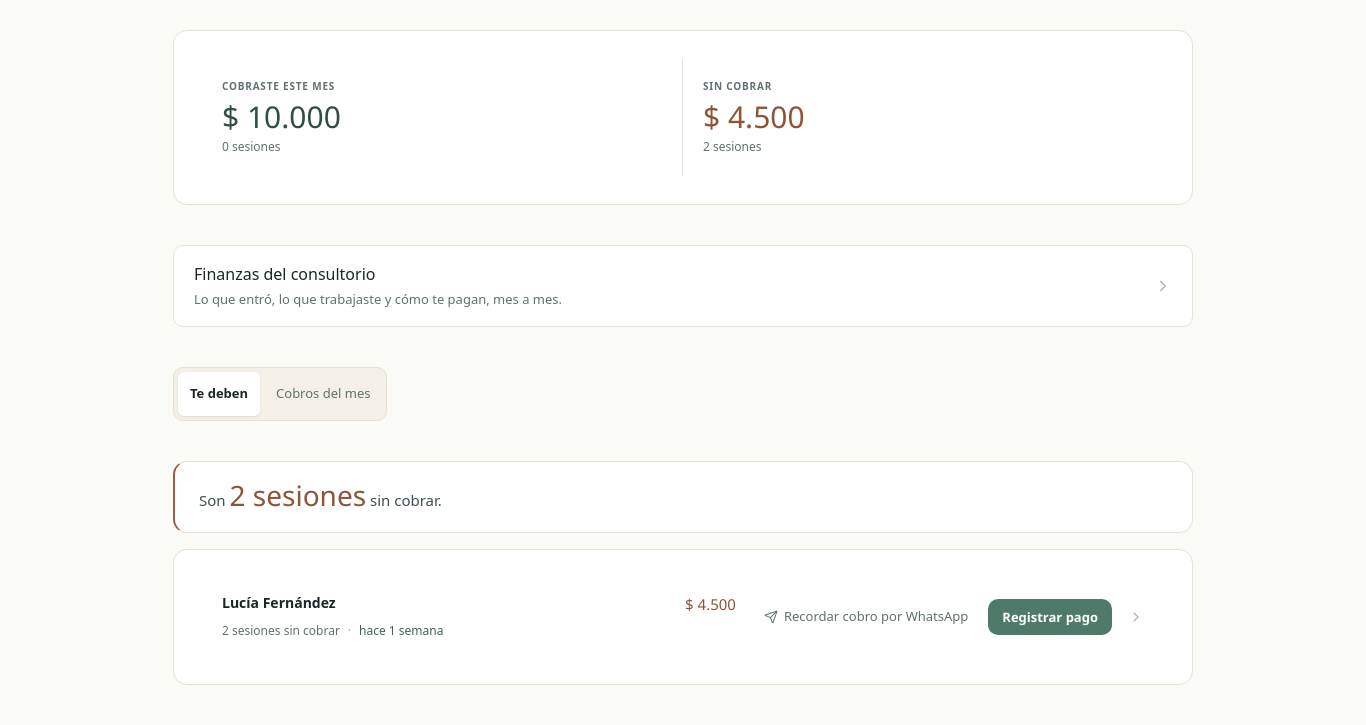
Test: Te deben: recordar el cobro por WhatsApp › el botón dice WhatsApp y tocarlo no abre nada: primero muestra el mensaje y el número
(page scrolled)
Step 1. Click the button "Recordar cobro por WhatsApp" → [866, 617], box [752,599,980,635]
(page scrolled)
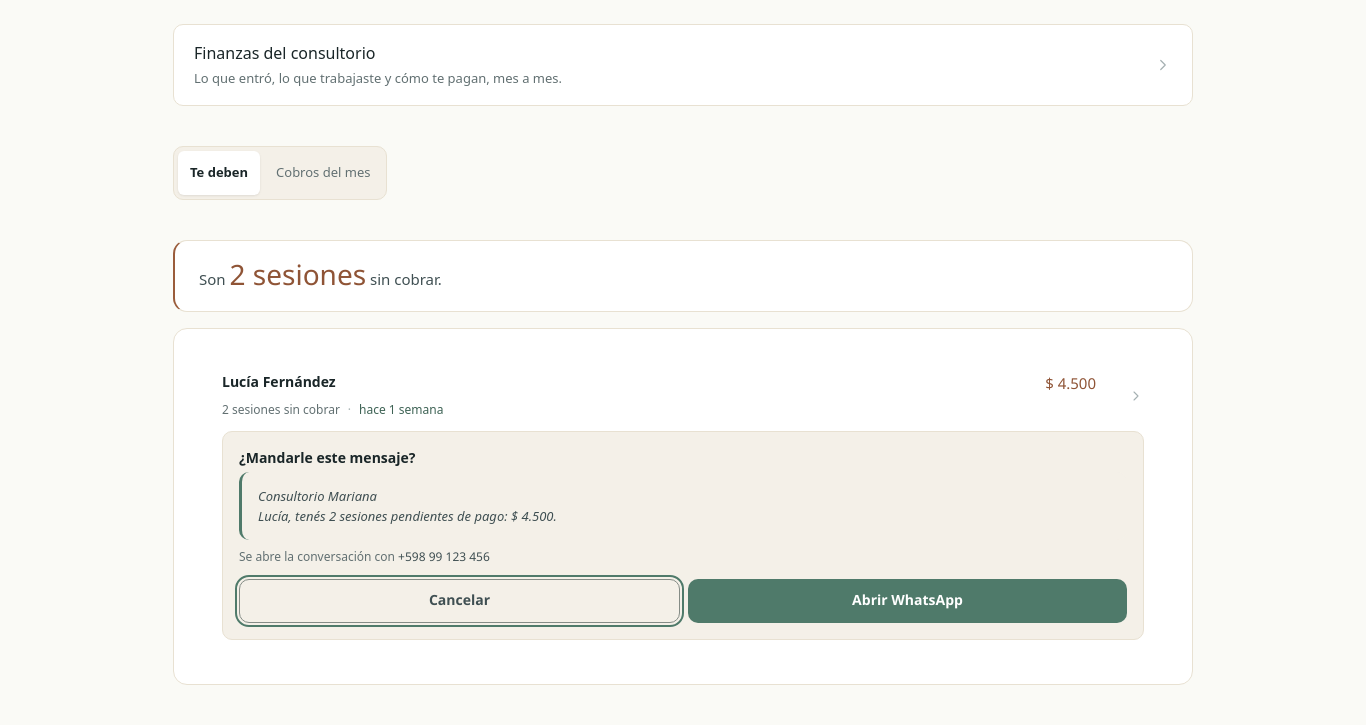
Check: the text "¿Mandarle este mensaje?" is shown, box [239,448,416,467]
Check: the text "+598 99 123 456" is shown, box [398,548,490,565]
// Cancelar tampoco abre ni anota, y la fila vuelve a como estaba.
Step 2. Click the button "Cancelar" → [460, 601], box [239,579,680,623]
(page scrolled)
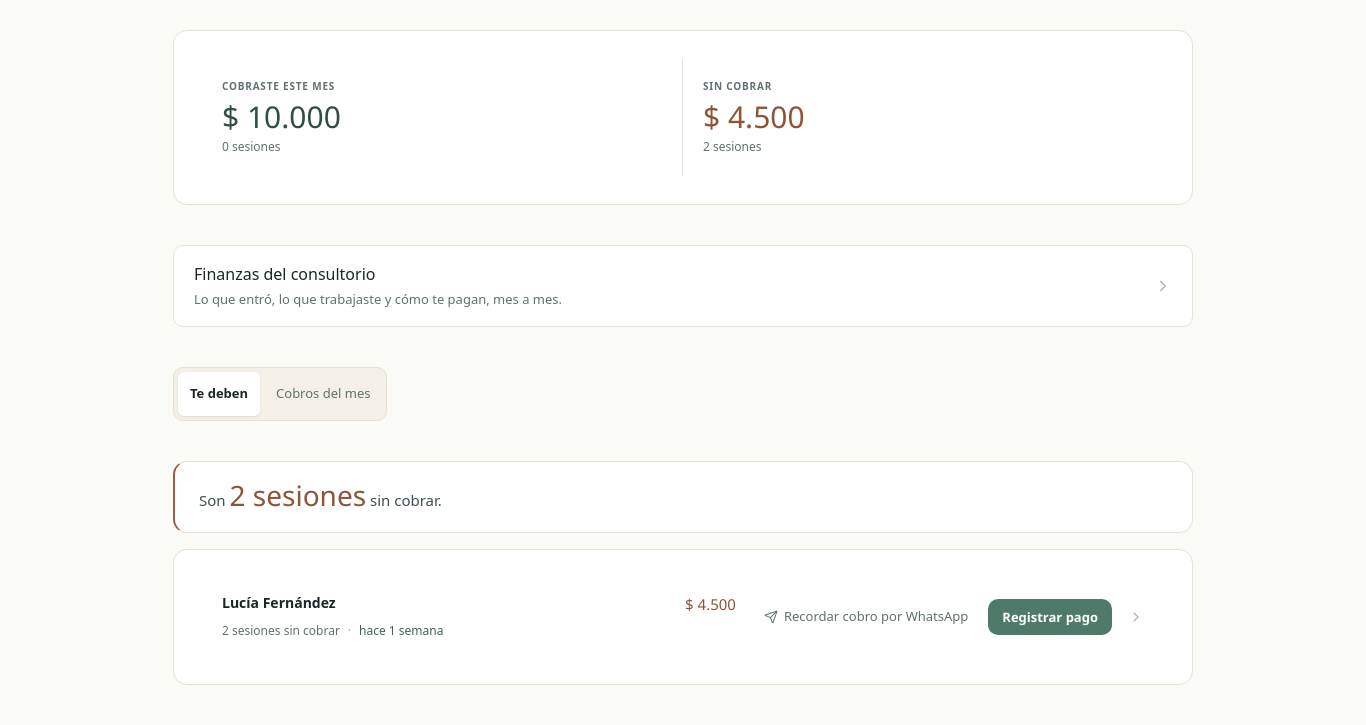
Check: the text "¿Mandarle este mensaje?" is gone
